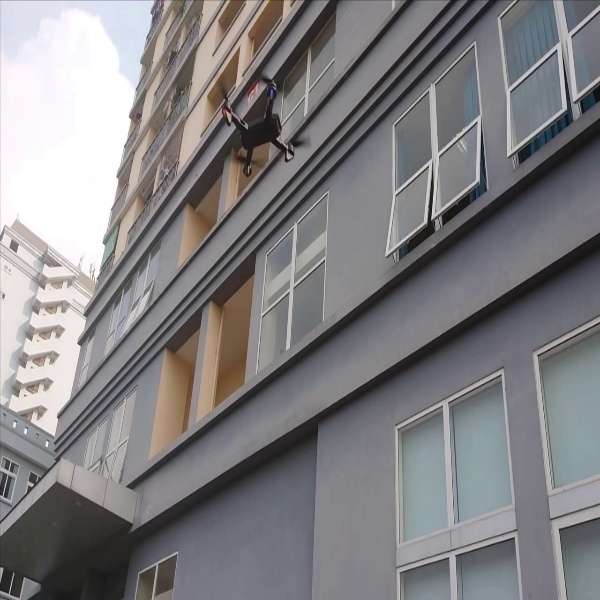drone: (207, 63, 308, 179)
